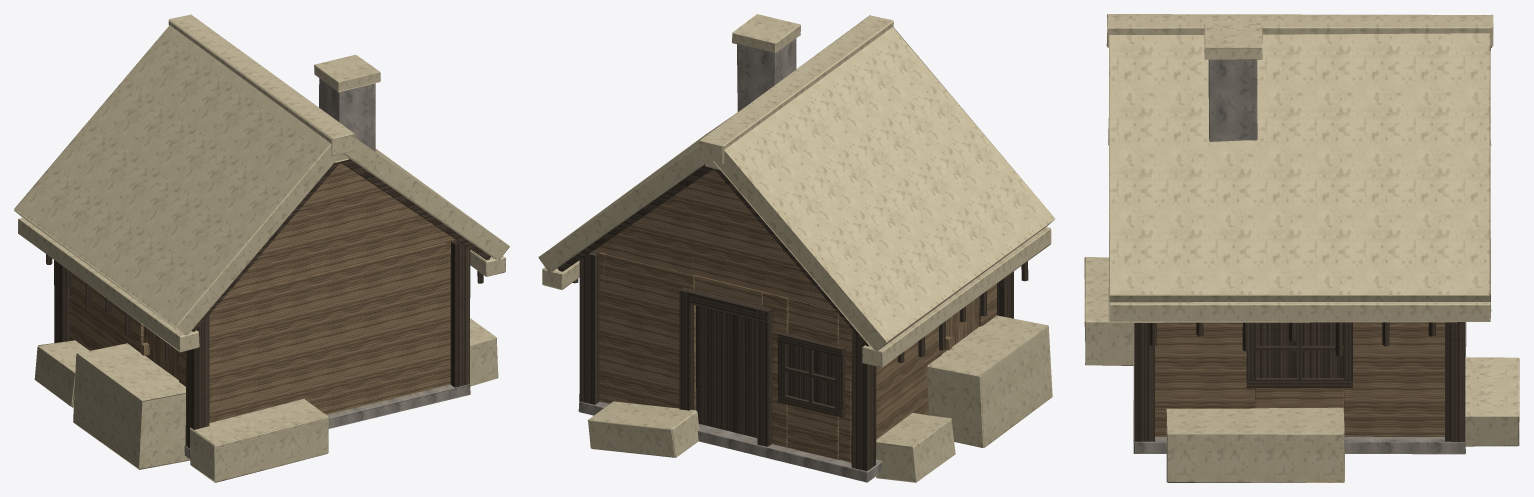
File: snow_cabin.glb
3 renders of one model, left to right at view 1: azimuth 30°, elevation 25°; view 2: azimuth 150°, elevation 25°; view 3: azimuth 270°, elevation 25°, orthographic. The views are drawn at different scales.
Parts seen in each view (by area): view 1: SnowCabin, Door; view 2: SnowCabin, Door; view 3: SnowCabin.
Part boxes in pixels (x1=…): SnowCabin: x1=14, y1=14, x2=509, y2=482; Door: x1=141, y1=326, x2=178, y2=379; SnowCabin: x1=538, y1=14, x2=1055, y2=482; Door: x1=942, y1=297, x2=978, y2=353; SnowCabin: x1=1084, y1=14, x2=1519, y2=482.
Size of the model in its own units: 6.27 by 5.36 by 5.5.
4 materials, 4 textured.
